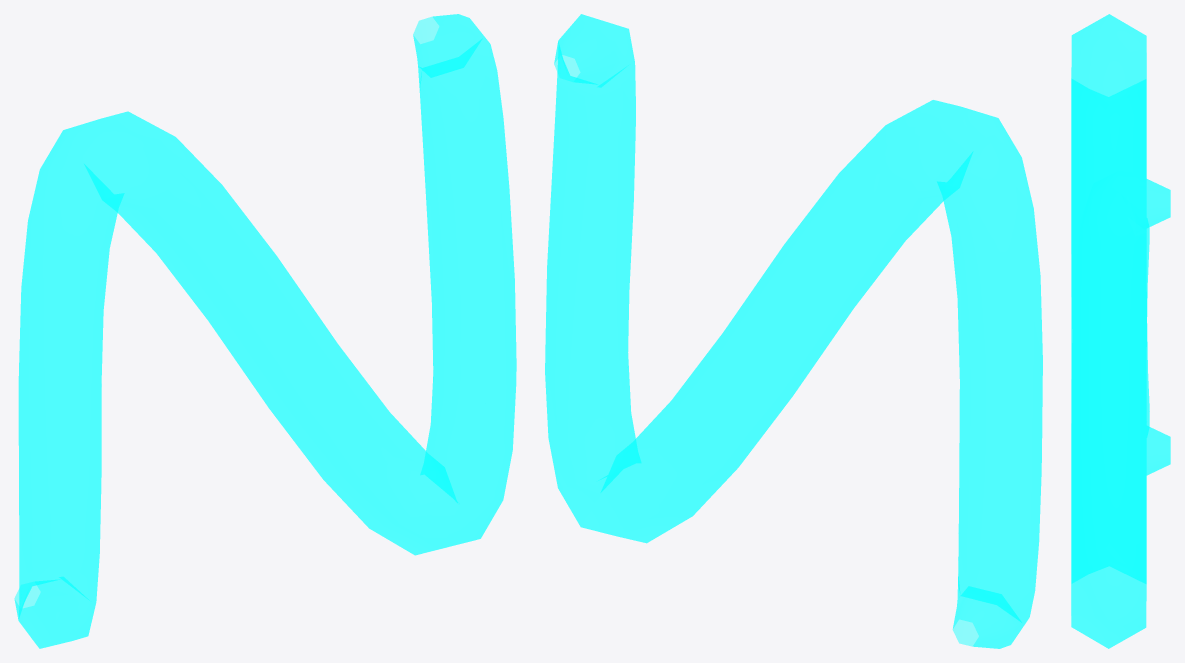
The picture shows the model from 3 angles, left to right: view 1: azimuth 30°, elevation 25°; view 2: azimuth 150°, elevation 25°; view 3: azimuth 270°, elevation 25°; orthographic projection. The views are drawn at different scales.
Visible parts, largest first — view 1: neon_letter_n.001_145; view 2: neon_letter_n.001_145; view 3: neon_letter_n.001_145.
Part boxes in pixels (x1,y1,x2,y2): neon_letter_n.001_145: (14, 14, 516, 648); neon_letter_n.001_145: (545, 14, 1042, 648); neon_letter_n.001_145: (1071, 14, 1170, 648).
Size of the model in its own units: 0.8496 by 0.8582 by 0.162.
